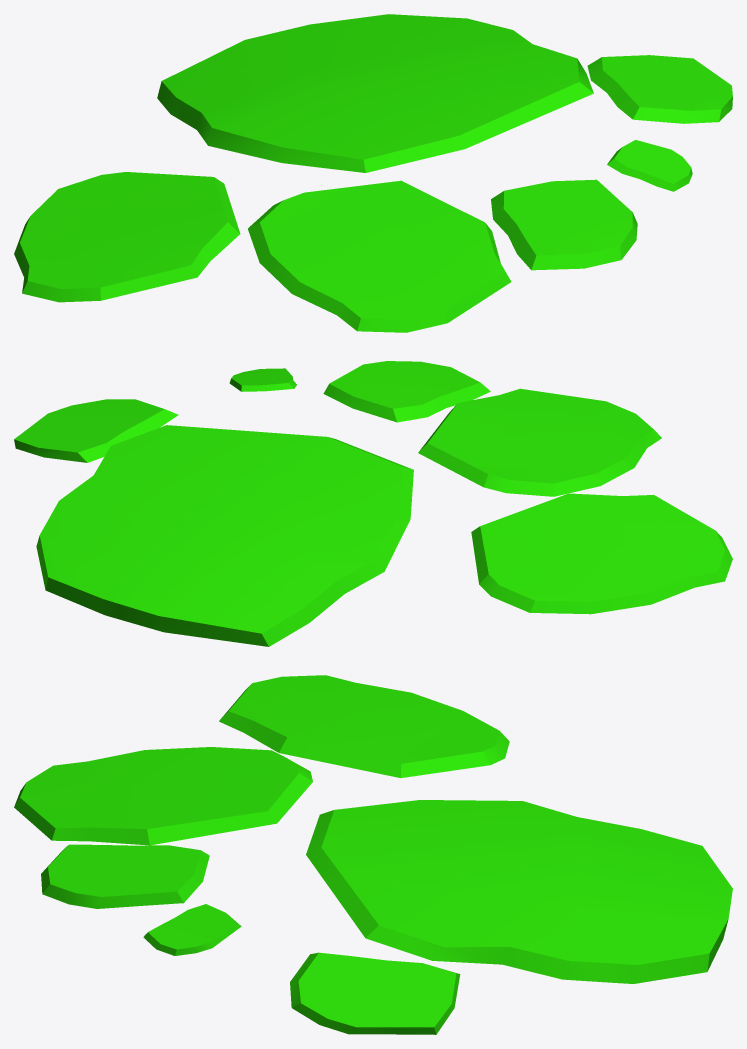
File: Debris_Concrete_03B.fbx
3 views of the same model, one above another, from view 1: azimuth 30°, elevation 25°; view 2: azimuth 150°, elevation 25°; view 3: azimuth 270°, elevation 25° (orthographic). The views are drawn at different scales.
Parts seen in each view (by area): view 1: Debris_Concrete_03B; view 2: Debris_Concrete_03B; view 3: Debris_Concrete_03B.
Boxes of the visible parts, x1,y1,x2,y2 form: Debris_Concrete_03B: (14,14,732,332); Debris_Concrete_03B: (14,361,732,646); Debris_Concrete_03B: (14,675,732,1034).
Size of the model in its own units: 192 by 17.03 by 160.
